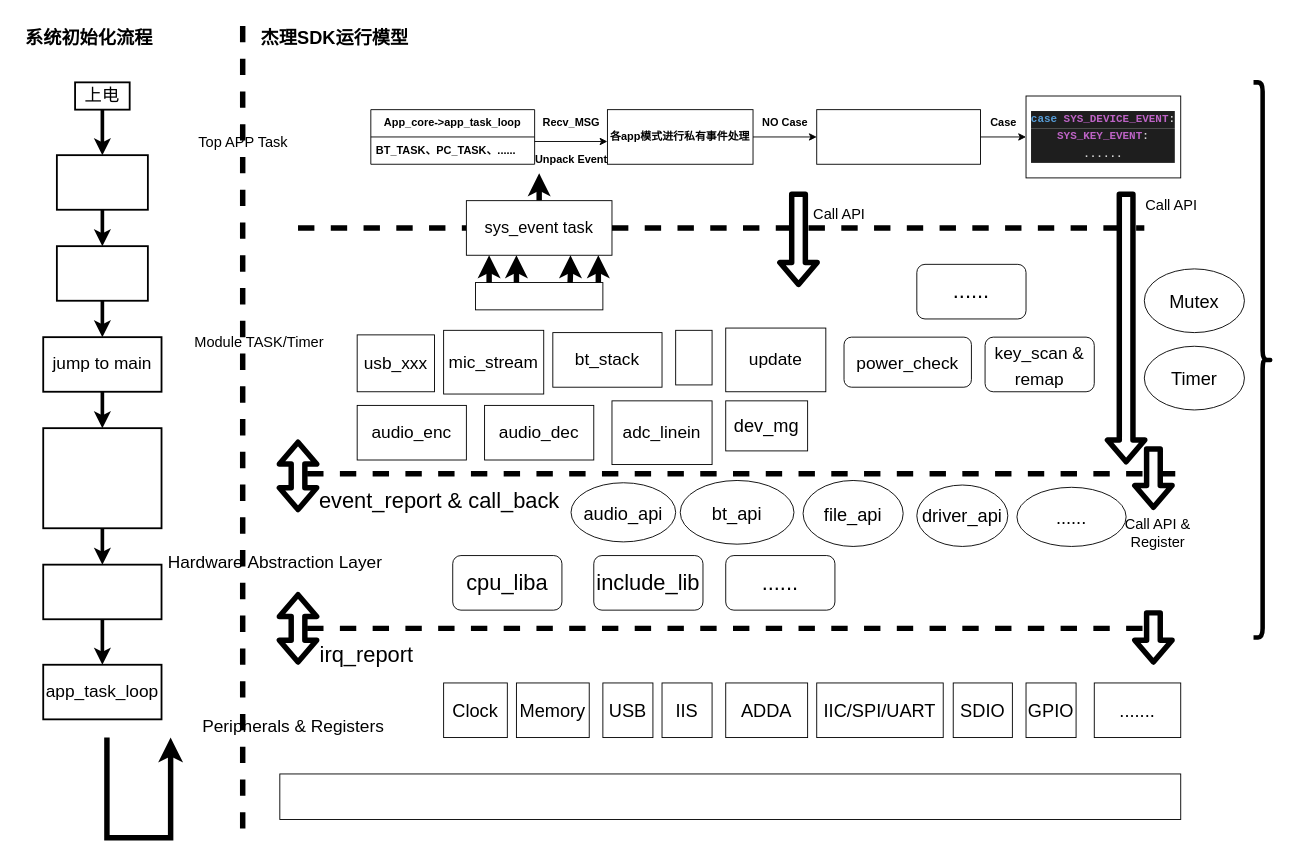
Some shapes in this 1289 by 865 pixel diagram are drawn without their labels. The shapes that lost their labels are listed below. From the top down, each one's centre as x and y in pixels, then its label:
At [898,136]: "公共事件处理接口 app_default_event_deal".
At [102,182]: "Mask_rom".
At [102,273]: "Bootloader".
At [539,296]: "Pack Msg & Report".
At [693,357]: "ui".
At [102,478]: "init_call early_init board_init each_task_init".
At [102,591]: "app_init".
At [730,796]: "外围电路、外围器件".
